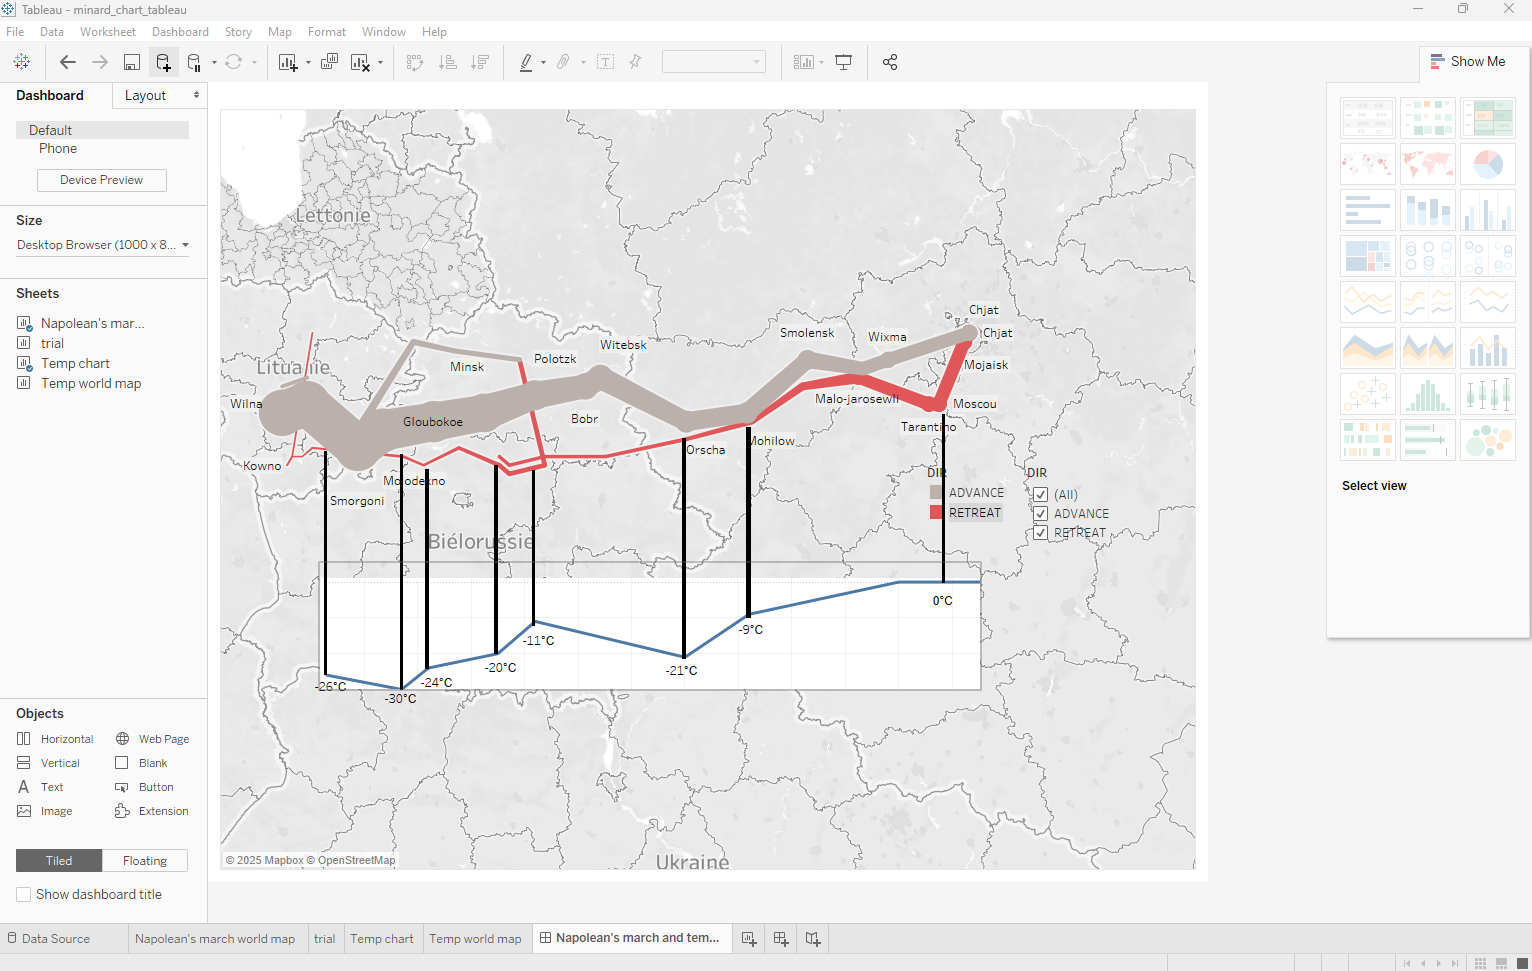

The page's visual inventory and layout, read from the dashboard file:
{"tool":"tableau","page":{"name":"Napolean's march and temp chart combined","canvas":[1000,800],"ordinal":0},"visuals":[{"type":"worksheet","title":"Napolean's march world map","mark":"Line","rows":["LATP"],"cols":["LONP"],"box":[8,8,984,784]},{"type":"image","param":"C:/Users/ashishkannur91/Desktop/Minard_desc.PNG","box":[13,23,932,197]},{"type":"text","box":[734,332,3,169]},{"type":"text","box":[538,345,5,191]},{"type":"text","box":[474,356,4,221]},{"type":"text","box":[116,369,3,224]},{"type":"text","box":[192,372,3,236]},{"type":"legend","title":"Napolean's march world map","param":"[federated.096w8jb1rtufpu1aa0vj60nd3z95].[none:DIR:nk]","box":[715,378,100,197]},{"type":"filter","title":"Napolean's march world map","param":"[federated.096w8jb1rtufpu1aa0vj60nd3z95].[none:DIR:nk]","box":[815,378,100,197]},{"type":"text","box":[286,383,4,189]},{"type":"text","box":[217,387,4,200]},{"type":"text","box":[324,388,3,156]},{"type":"worksheet","title":"Temp chart","mark":"Line","rows":["TEMP"],"cols":["LONT"],"box":[112,481,660,126]},{"type":"text","box":[722,504,100,30]},{"type":"text","box":[528,532,100,30]},{"type":"text","box":[312,543,100,30]},{"type":"text","box":[274,570,35,30]},{"type":"text","box":[455,573,100,30]},{"type":"text","box":[210,589,36,23]},{"type":"text","box":[104,596,43,16]},{"type":"text","box":[174,611,38,10]}]}

Visuals, with their boxes on the page's 1000x800 design canvas (x1, y1, x2, y2). These are canvas units, not pixel positions in the 1532x971 screenshot, which may show the page scaled, cropped or inside an application window:
"Napolean's march world map" worksheet (Line marks): pyautogui.locateOnScreen(8, 8, 992, 792)
image: pyautogui.locateOnScreen(13, 23, 945, 220)
text: pyautogui.locateOnScreen(734, 332, 737, 501)
text: pyautogui.locateOnScreen(538, 345, 543, 536)
text: pyautogui.locateOnScreen(474, 356, 478, 577)
text: pyautogui.locateOnScreen(116, 369, 119, 593)
text: pyautogui.locateOnScreen(192, 372, 195, 608)
"Napolean's march world map" legend: pyautogui.locateOnScreen(715, 378, 815, 575)
"Napolean's march world map" filter: pyautogui.locateOnScreen(815, 378, 915, 575)
text: pyautogui.locateOnScreen(286, 383, 290, 572)
text: pyautogui.locateOnScreen(217, 387, 221, 587)
text: pyautogui.locateOnScreen(324, 388, 327, 544)
"Temp chart" worksheet (Line marks): pyautogui.locateOnScreen(112, 481, 772, 607)
text: pyautogui.locateOnScreen(722, 504, 822, 534)
text: pyautogui.locateOnScreen(528, 532, 628, 562)
text: pyautogui.locateOnScreen(312, 543, 412, 573)
text: pyautogui.locateOnScreen(274, 570, 309, 600)
text: pyautogui.locateOnScreen(455, 573, 555, 603)
text: pyautogui.locateOnScreen(210, 589, 246, 612)
text: pyautogui.locateOnScreen(104, 596, 147, 612)
text: pyautogui.locateOnScreen(174, 611, 212, 621)
